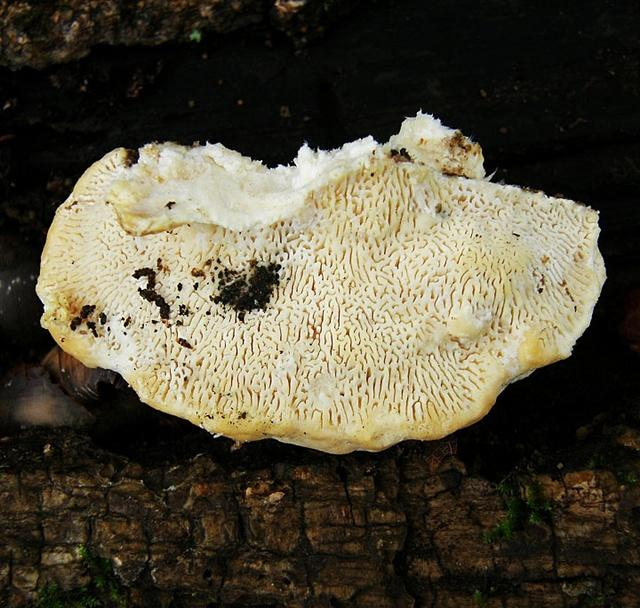poisonous_mushroom: (34, 107, 608, 456)
